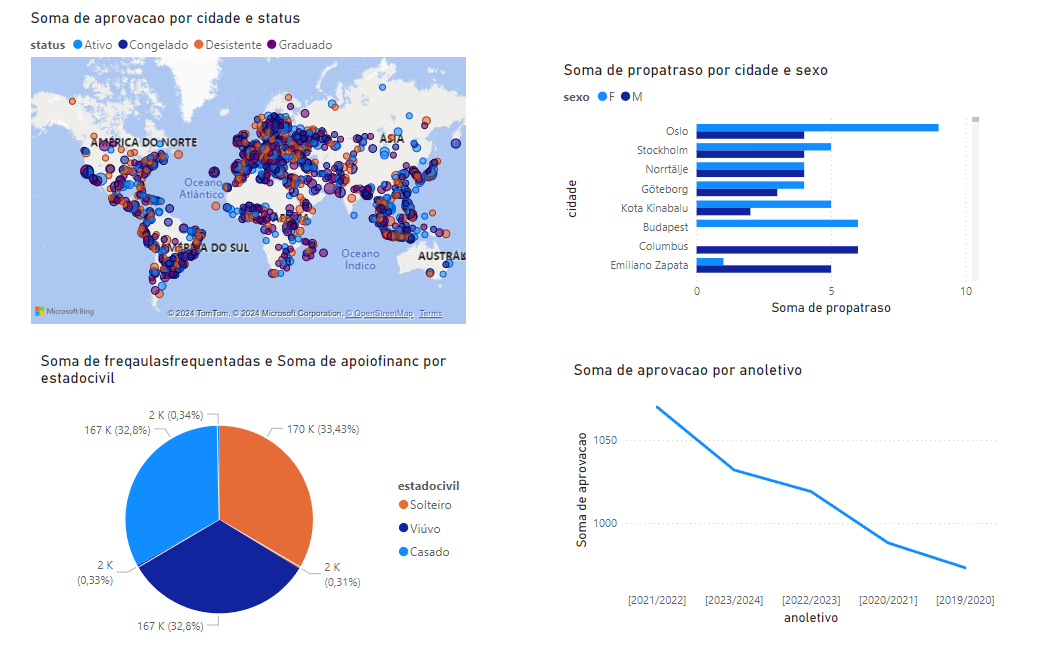

The dashboard page shown, as its layout file describes it:
{"tool":"powerbi","page":{"name":"Página 2","canvas":[1280,720],"ordinal":1},"visuals":[{"type":"map","fields":{"Category":["ALUNO.cidade"],"Series":["ALUNO.status"],"Size":["Sum(DESEMPENHOACADEMICO.aprovacao)"]},"box":[79.1,21.7,480.8,347.6],"z":0},{"type":"clusteredBarChart","fields":{"Y":["Sum(SITUACAOFINANCEIRA.propatraso)"],"Category":["ALUNO.cidade"],"Series":["ALUNO.sexo"]},"box":[656.2,78,460.2,281.6],"z":1},{"type":"pieChart","fields":{"Y":["Sum(DESEMPENHOACADEMICO.freqaulasfrequentadas)","Sum(SITUACAOFINANCEIRA.apoiofinanc)"],"Category":["ALUNO.estadocivil"]},"box":[89.9,393.1,480.8,327],"z":2},{"type":"lineChart","fields":{"Y":["Sum(DESEMPENHOACADEMICO.aprovacao)"],"Category":["TEMPO.anoletivo"]},"box":[667.1,402.8,474.3,291.3],"z":3}]}

Visuals, with their boxes on the page's 1280x720 design canvas (x1, y1, x2, y2). These are canvas units, not pixel positions in the 1046x646 screenshot, which may show the page scaled, cropped or inside an application window:
map - ALUNO.cidade x ALUNO.status: [79,22,560,369]
clusteredBarChart - Sum(SITUACAOFINANCEIRA.propatraso) x ALUNO.cidade: [656,78,1116,360]
pieChart - Sum(DESEMPENHOACADEMICO.freqaulasfrequentadas) x Sum(SITUACAOFINANCEIRA.apoiofinanc): [90,393,571,720]
lineChart - Sum(DESEMPENHOACADEMICO.aprovacao) x TEMPO.anoletivo: [667,403,1141,694]
